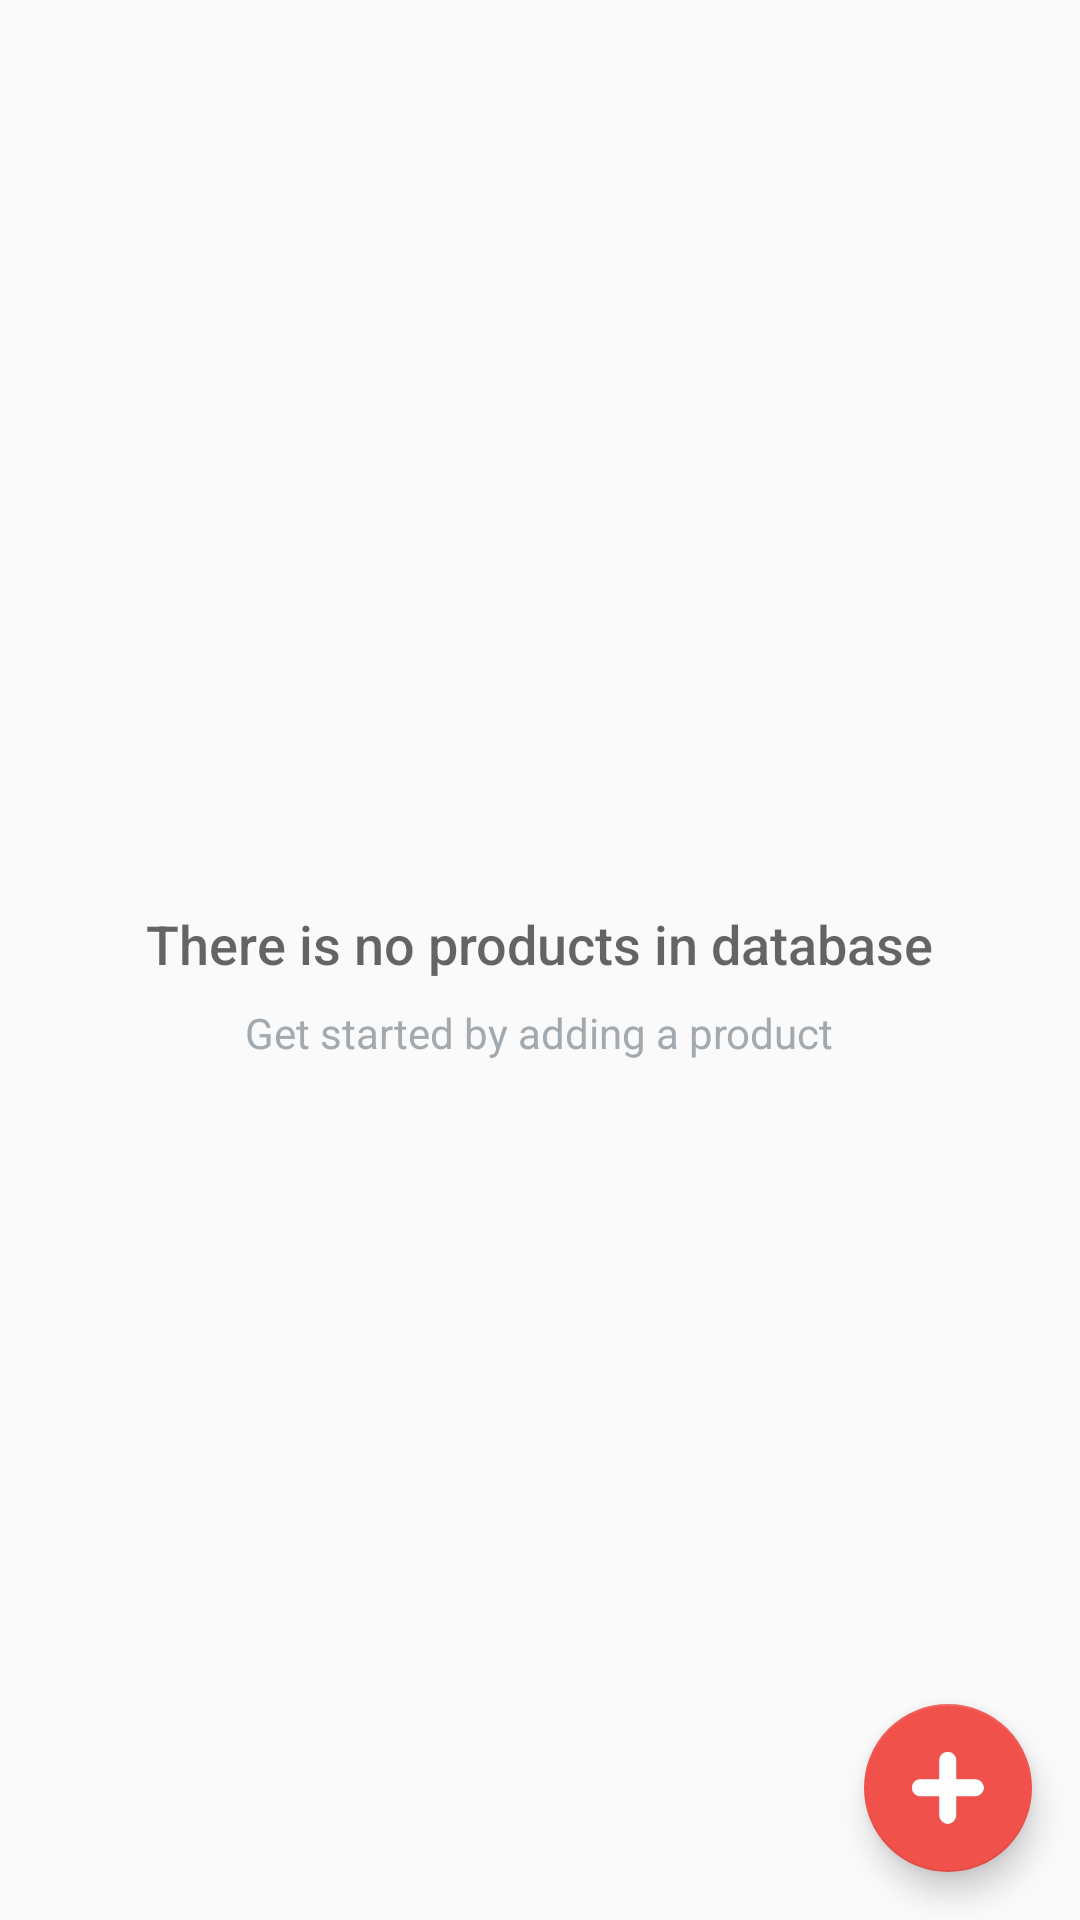

Named icons in this screenshot (1080x1920) and their centers, (x=x, y=y):
adding: (x=948, y=1788)
